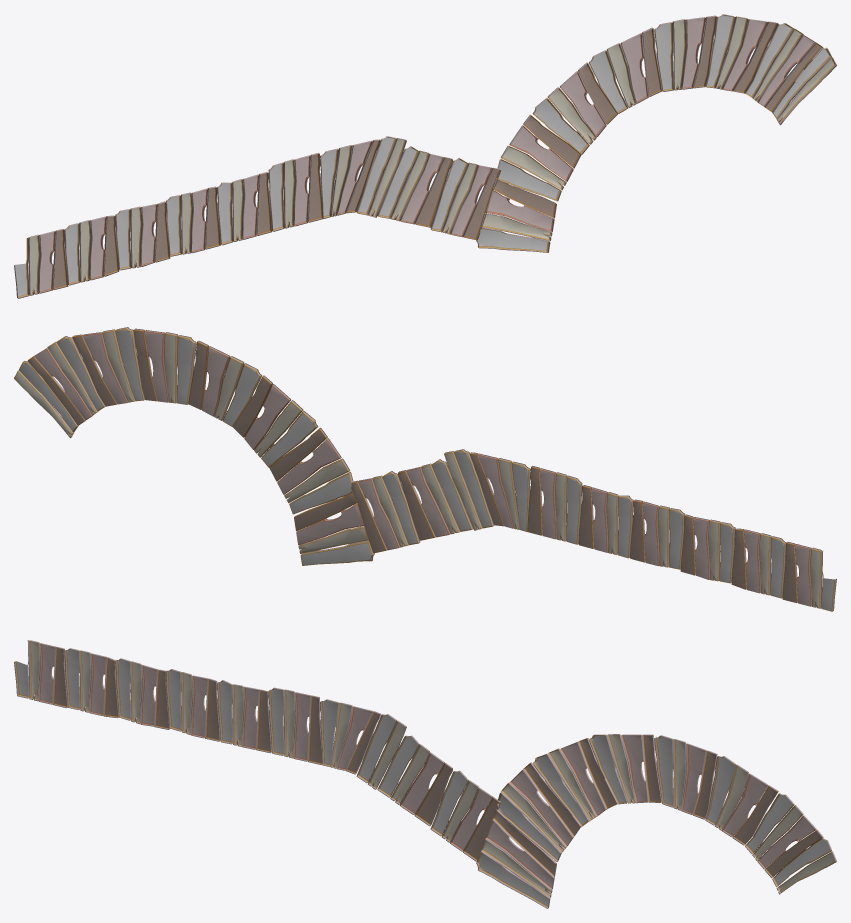
The model's file is TownWoodPath.fbx.
3 renders of one model, top to bottom at view 1: azimuth 30°, elevation 25°; view 2: azimuth 150°, elevation 25°; view 3: azimuth 330°, elevation 25°, orthographic.
Parts seen in each view (by area): view 1: TownWoodPath; view 2: TownWoodPath; view 3: TownWoodPath.
Boxes of the visible parts, x1,y1,x2,y2 form: TownWoodPath: [14, 14, 836, 298]; TownWoodPath: [14, 327, 836, 611]; TownWoodPath: [14, 640, 836, 908].
Bounding box in the file's own units: 2093 × 488 × 7.26.
